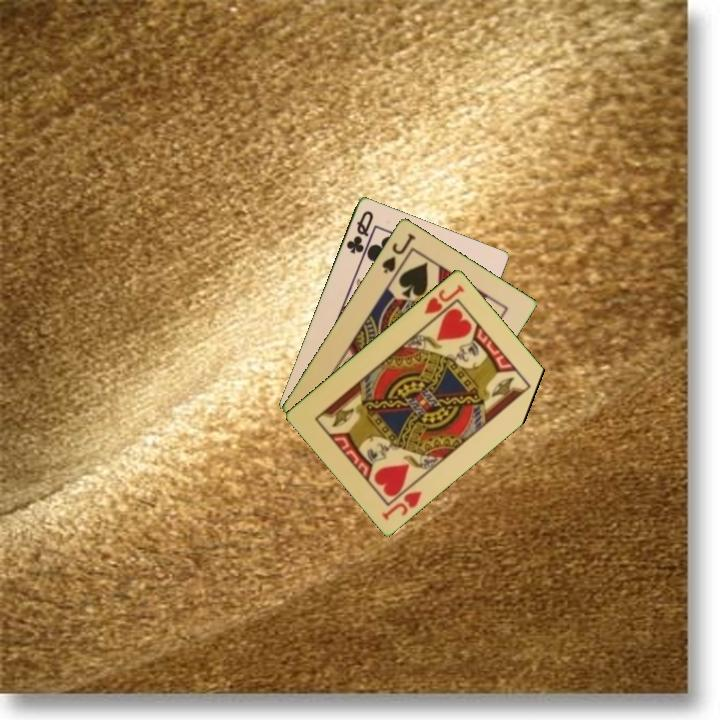Jh: (421, 280, 467, 326), (378, 487, 425, 523)
Js: (378, 229, 419, 276)
Qc: (343, 207, 376, 256)
